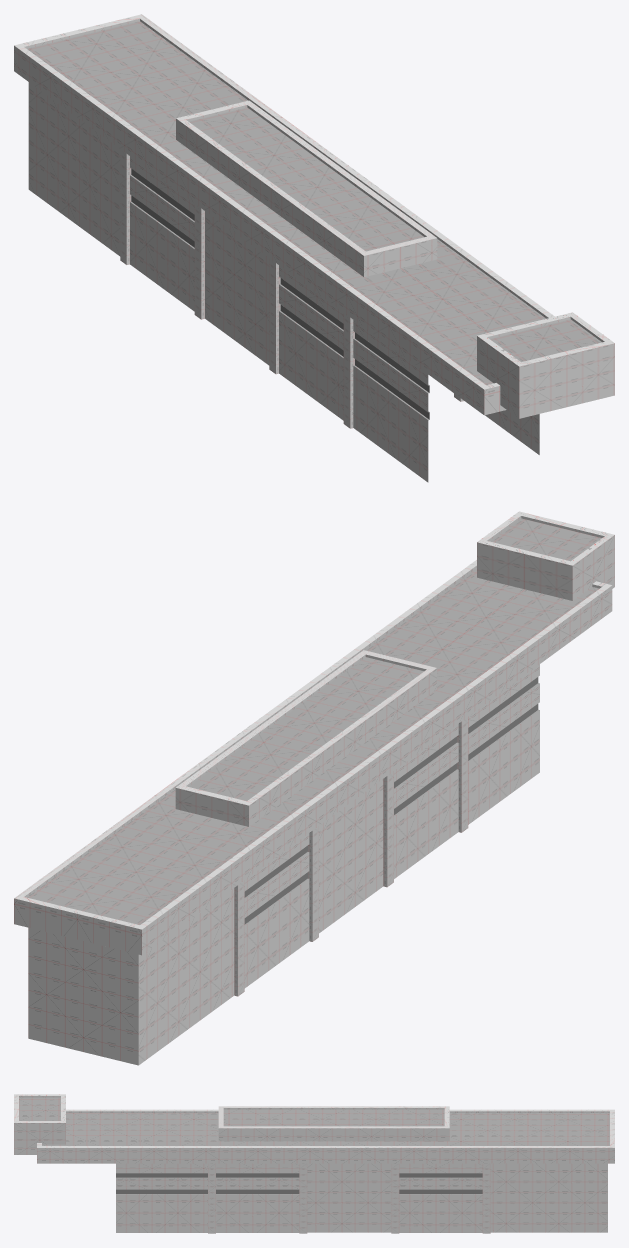
Rendered from tbuild_a.FBX.
3 renders of one model, top to bottom at view 1: azimuth 30°, elevation 25°; view 2: azimuth 150°, elevation 25°; view 3: azimuth 270°, elevation 25°, orthographic. The views are drawn at different scales.
Visible parts, largest first — view 1: terminal_01_b; view 2: terminal_01_b; view 3: terminal_01_b.
Part boxes in pixels (x1,y1,x2,y2): terminal_01_b: (14, 14, 614, 482); terminal_01_b: (14, 511, 614, 1065); terminal_01_b: (14, 1094, 614, 1233).
Size of the model in its own units: 34.98 by 45.7 by 232.
3 materials, 2 textured.
